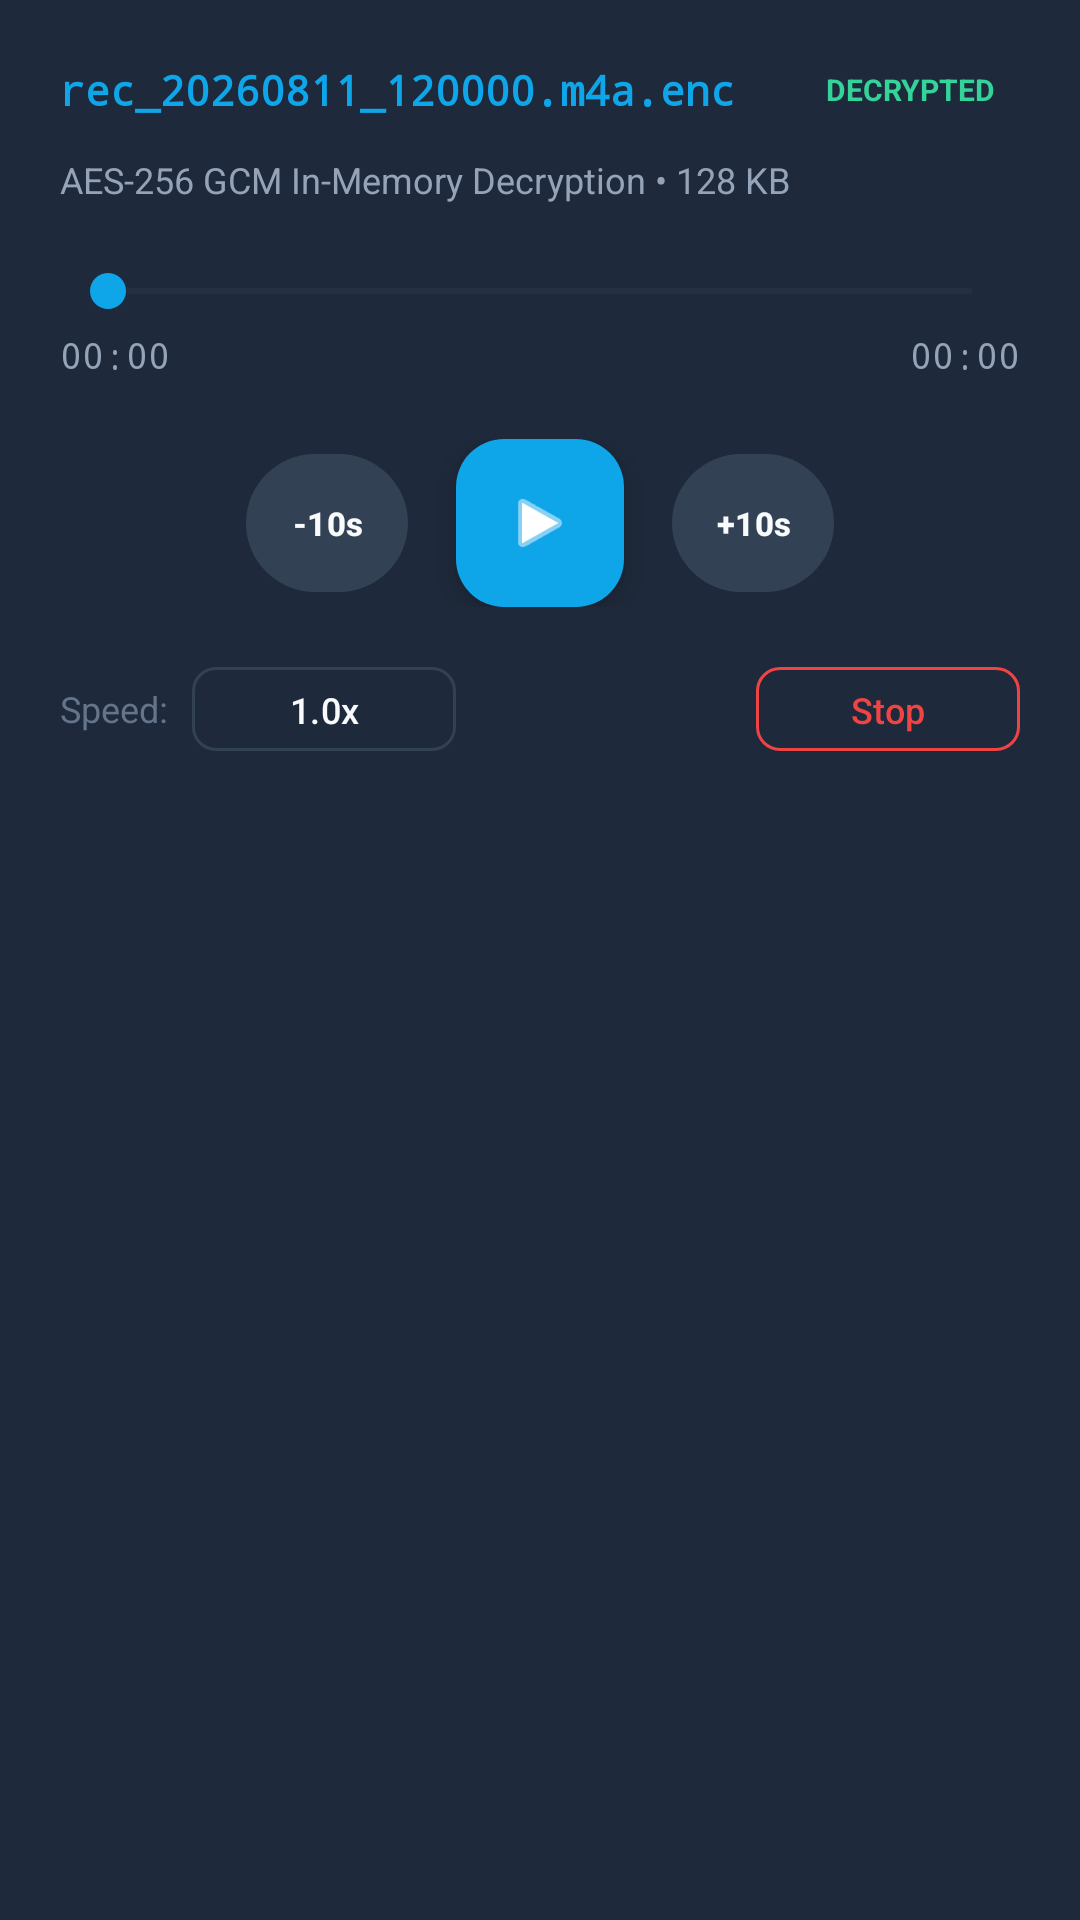

Locate icon controls on the screen. Image size 1080 x 1920, boxes as (x1, y1, x2, y2).
Play/Pause: (456, 439, 624, 607)
